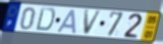0: (19, 6, 38, 31)
2: (123, 13, 144, 40)
7: (108, 11, 125, 38)
A: (56, 9, 78, 35)
D: (35, 6, 57, 33)
V: (83, 9, 103, 36)
